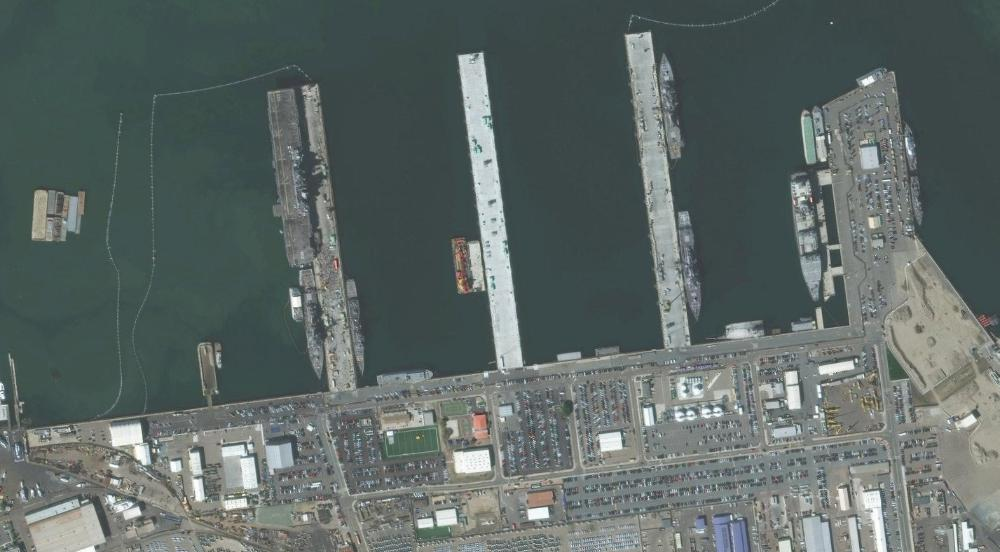destroyer: (343, 277, 370, 378)
fregate: (654, 48, 686, 161), (676, 211, 706, 322), (298, 267, 327, 379)
pha: (265, 88, 321, 267)
tender: (788, 169, 831, 305)
